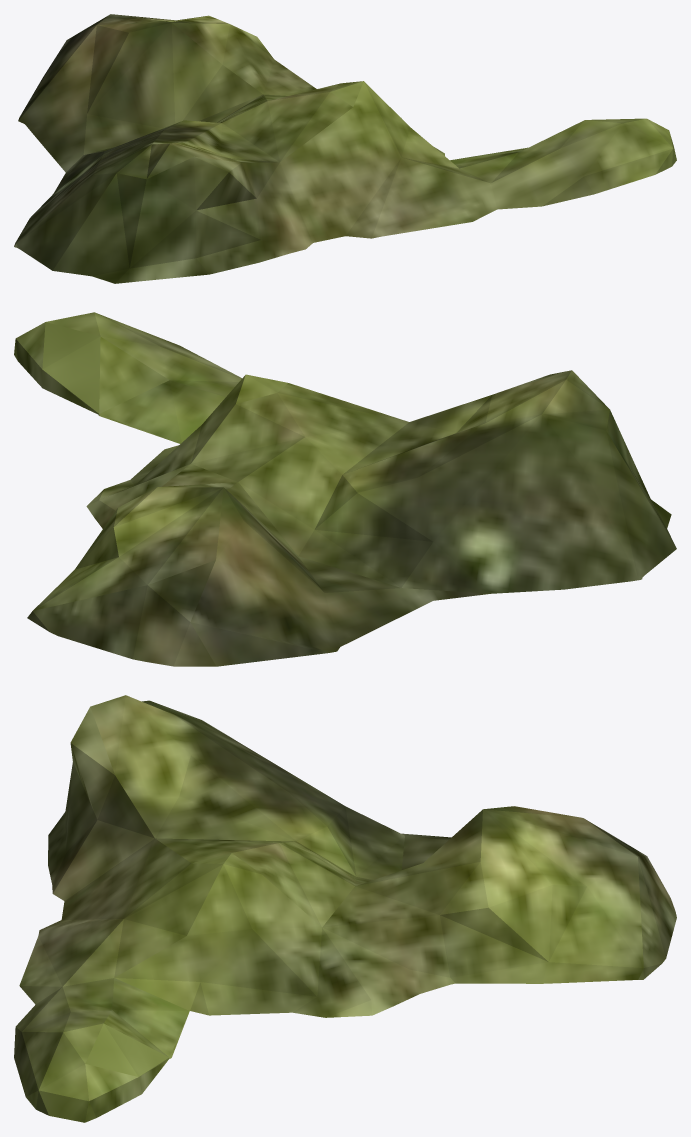
The picture shows the model from 3 angles, top to bottom: view 1: azimuth 30°, elevation 25°; view 2: azimuth 150°, elevation 25°; view 3: azimuth 270°, elevation 25°; orthographic projection. The views are drawn at different scales.
Bounding box in the file's own units: 1.61 × 0.283 × 1.26.
Materials: 1 (1 with a texture image).
